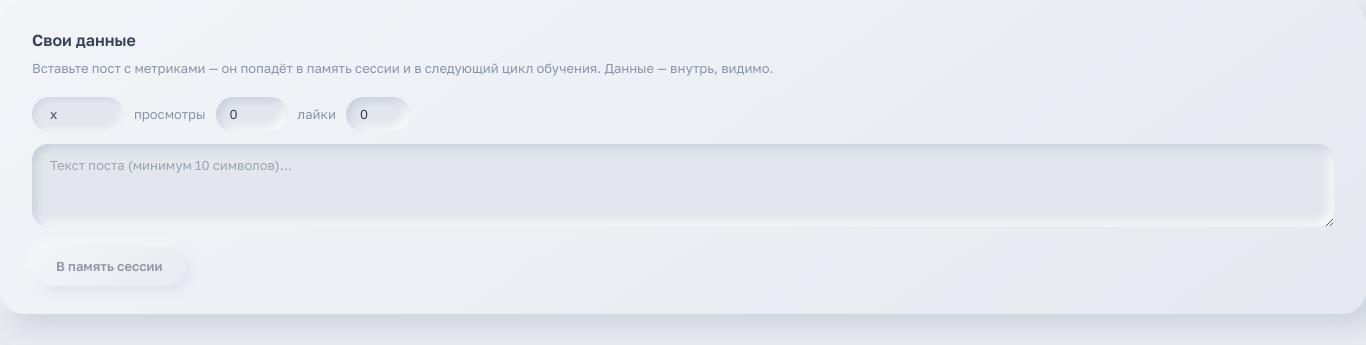
Test: DataIngestPanel › metric fields are keyboard-only numeric text inputs (no native spinners)
# Non-digits are stripped on input
Step 1. Replace the text in the field with test id "ingest-views" with "12ab3" → (252, 115), box [216,97,288,132]
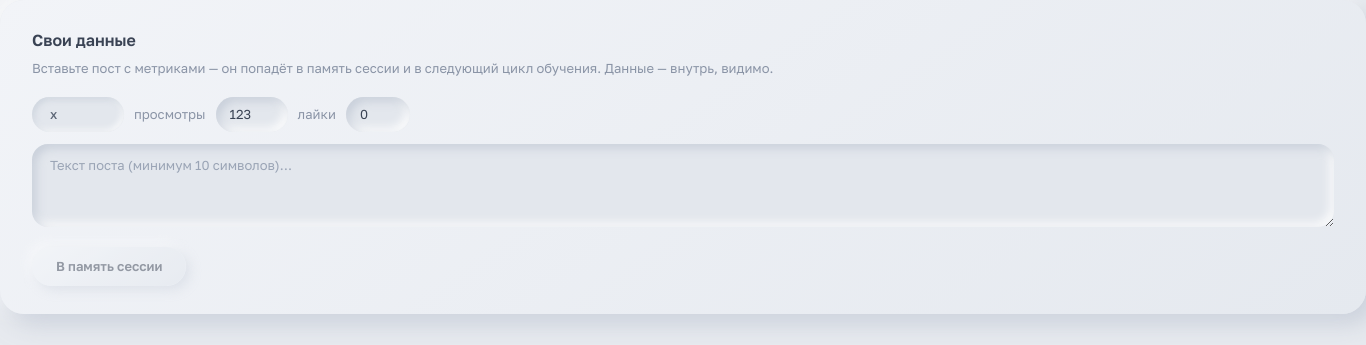
Result: the field with test id "ingest-views" holds "123" at [216,97,288,132]
